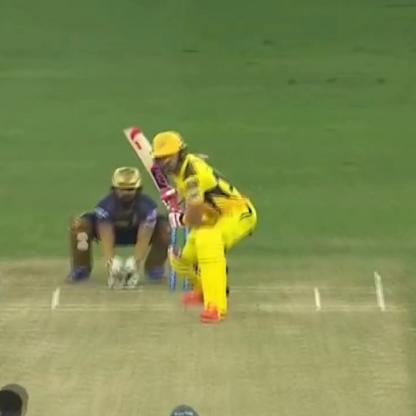ball: (69, 237, 93, 255), (71, 226, 93, 239)
bat: (117, 118, 191, 234)
pitch: (1, 264, 416, 416)
